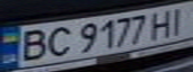1: (97, 17, 118, 50)
7: (127, 11, 151, 43), (115, 15, 136, 47)
9: (75, 20, 100, 54)
B: (12, 27, 51, 63)
C: (42, 24, 75, 58)
H: (145, 7, 178, 39)
I: (163, 3, 193, 35)
